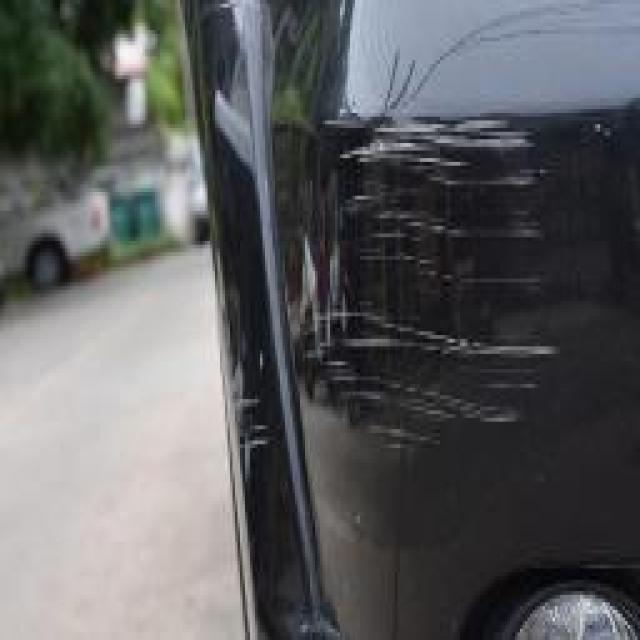Bumper: (230, 87, 568, 497)
